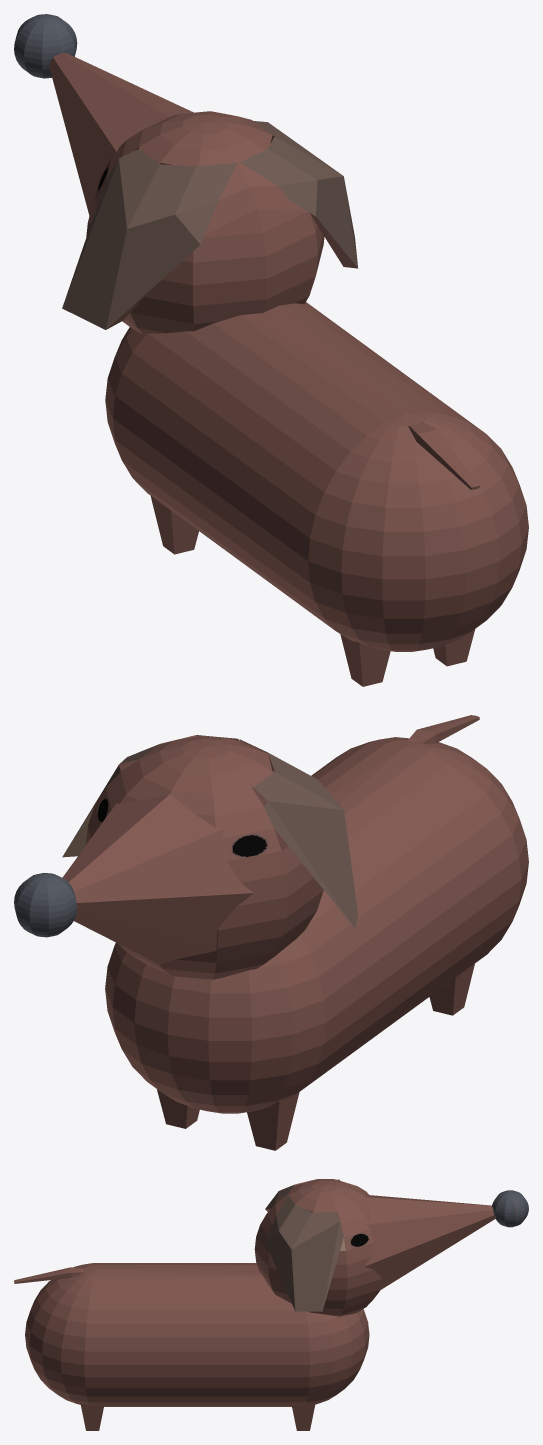
Rendered from chien.glb.
3 renders of one model, top to bottom at view 1: azimuth 30°, elevation 25°; view 2: azimuth 150°, elevation 25°; view 3: azimuth 270°, elevation 25°, orthographic. The views are drawn at different scales.
Parts seen in each view (by area): view 1: Sphère.001; view 2: Sphère.001; view 3: Sphère.001.
Boxes of the visible parts, x1,y1,x2,y2 form: Sphère.001: [14, 14, 528, 686]; Sphère.001: [14, 715, 528, 1150]; Sphère.001: [14, 1179, 528, 1430].
Bounding box in the file's own units: 1.05 × 1.37 × 2.76.
Materials: 1 (1 with a texture image).
